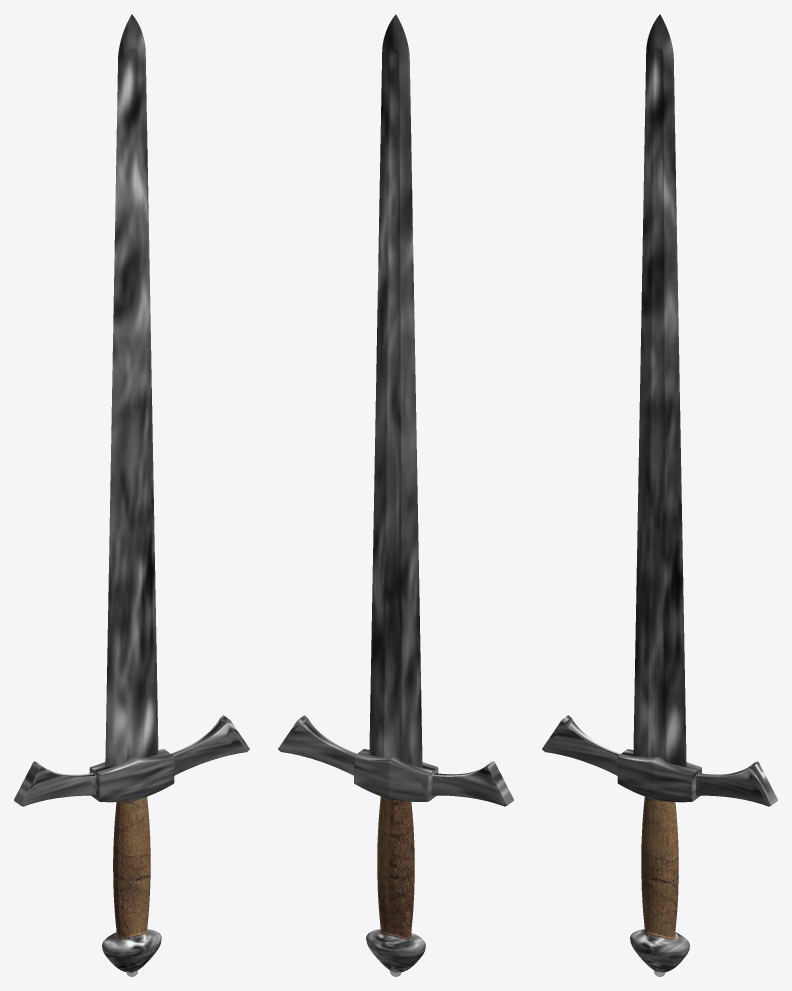
File: sword.fbx
3 views of the same model, side by side, from view 1: azimuth 30°, elevation 25°; view 2: azimuth 150°, elevation 25°; view 3: azimuth 330°, elevation 25° (orthographic).
Visible parts, largest first — view 1: blade, garda, hand, end; view 2: blade, garda, hand, end; view 3: blade, garda, hand, end.
Boxes of the visible parts, bbox=[...] form: blade: bbox=[105, 14, 158, 767]; garda: bbox=[14, 715, 249, 806]; hand: bbox=[113, 796, 150, 939]; end: bbox=[102, 929, 161, 972]; blade: bbox=[369, 14, 422, 767]; garda: bbox=[278, 715, 513, 806]; hand: bbox=[377, 796, 414, 939]; end: bbox=[366, 929, 425, 972]; blade: bbox=[633, 14, 686, 767]; garda: bbox=[542, 715, 777, 806]; hand: bbox=[641, 797, 678, 939]; end: bbox=[630, 929, 689, 972].
Bounding box in the file's own units: 3.16 × 12.67 × 0.4904.
5 materials, 5 textured.
